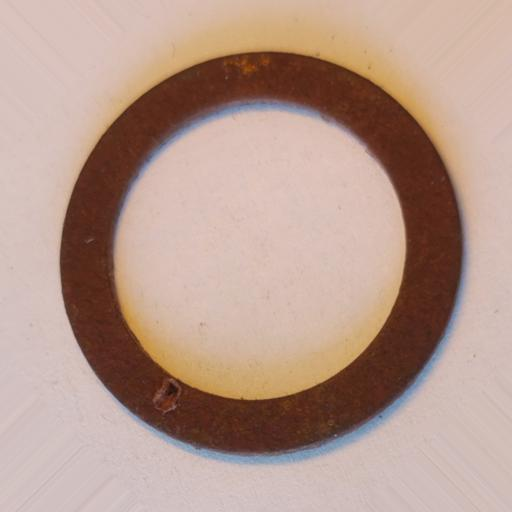defect: (152, 376, 182, 412)
